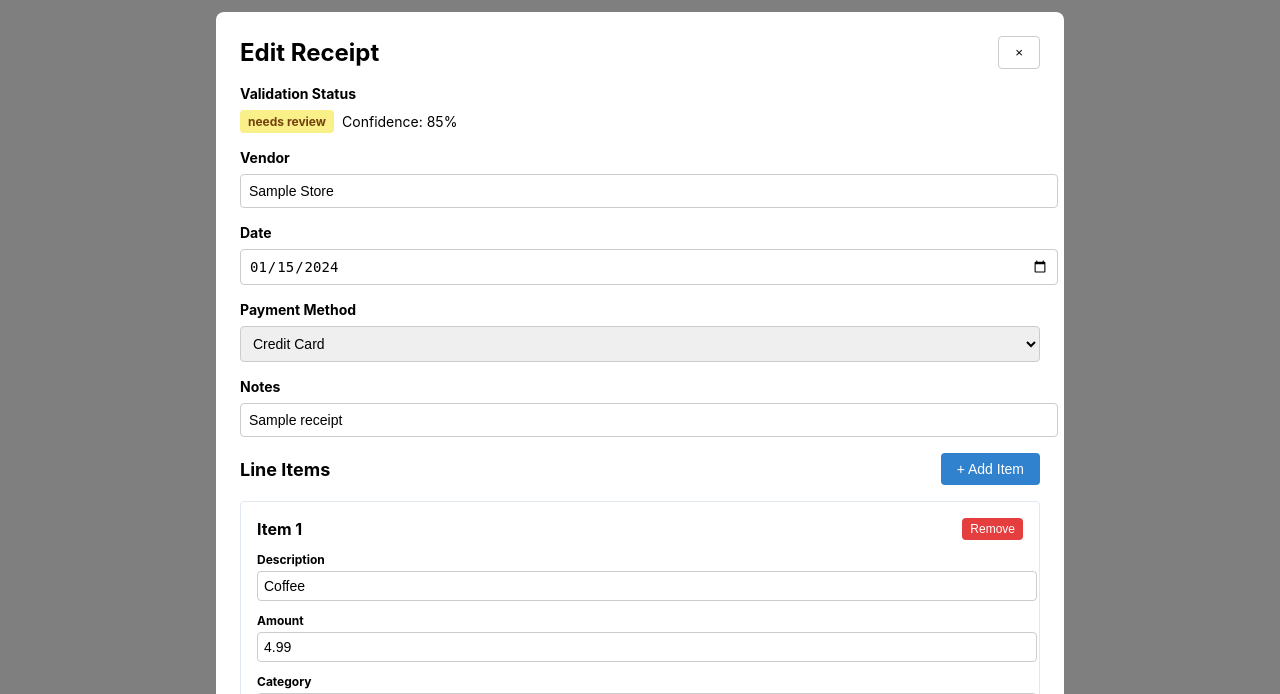
ReceiptEditModal › updates total when line item amounts change
The image size is (1280, 694).
Replace the text in the number field showing "4.99" with "10.00": (647,647) top-left (257, 632), bottom-right (1037, 662)
(page scrolled)
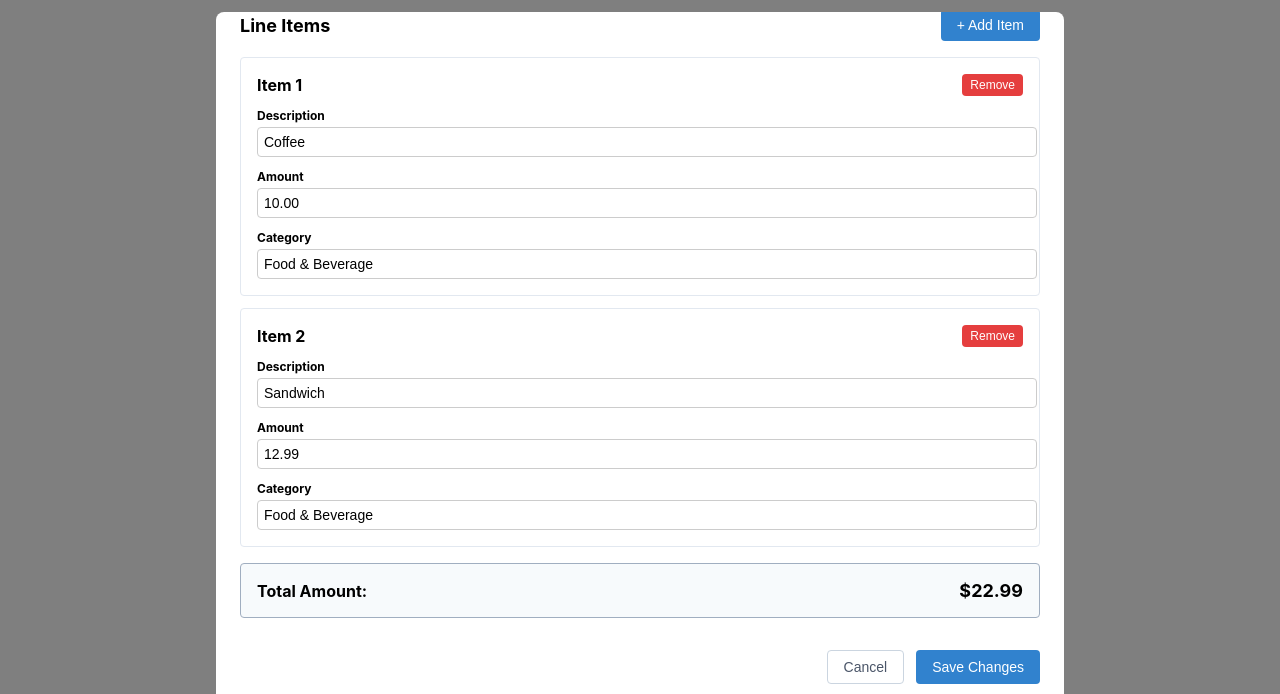
Expected: the text "$22.99" is shown, top-left (959, 580), bottom-right (1023, 601)
